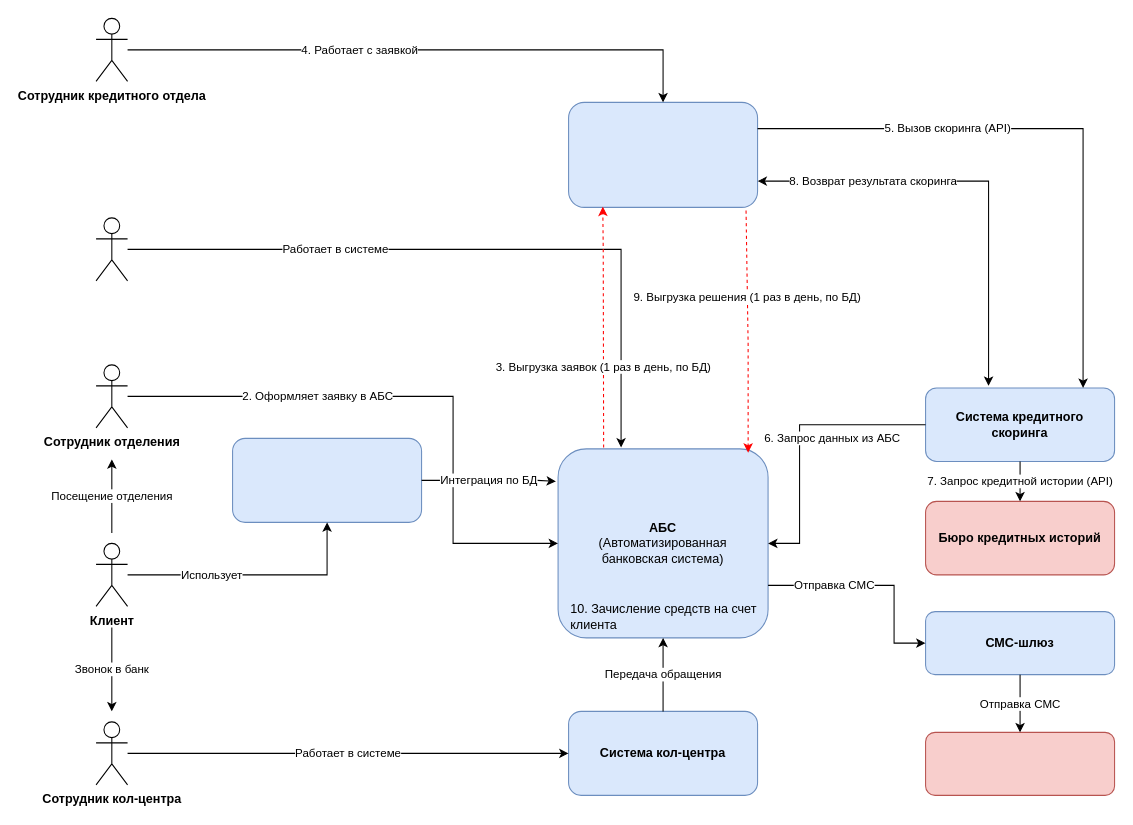
This 1133x825 diagram has some shape labels left out. Each missing label, with the centre of its shape:
Интернет-банк: the point at 327,479
Кредитный конвейер: the point at 663,154
Сотрудники бэк-офиса (депозиты): the point at 111,249
Телеком-оператор: the point at 1020,763
